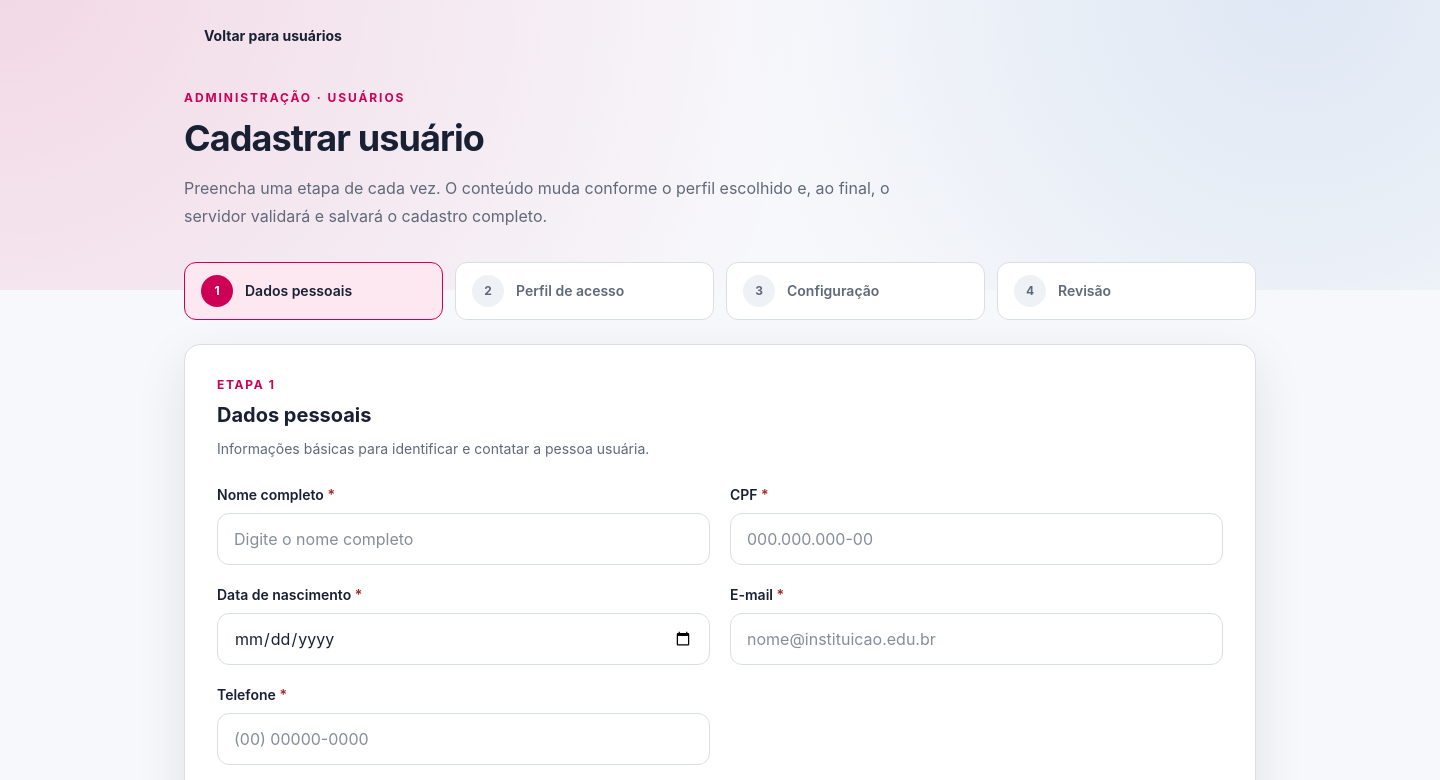
UsersView › exige telefone com DDD antes de avançar no cadastro
In the field named "name": [464, 539] box x1=217 y1=513 x2=710 y2=565, type "Usuário sem telefone"
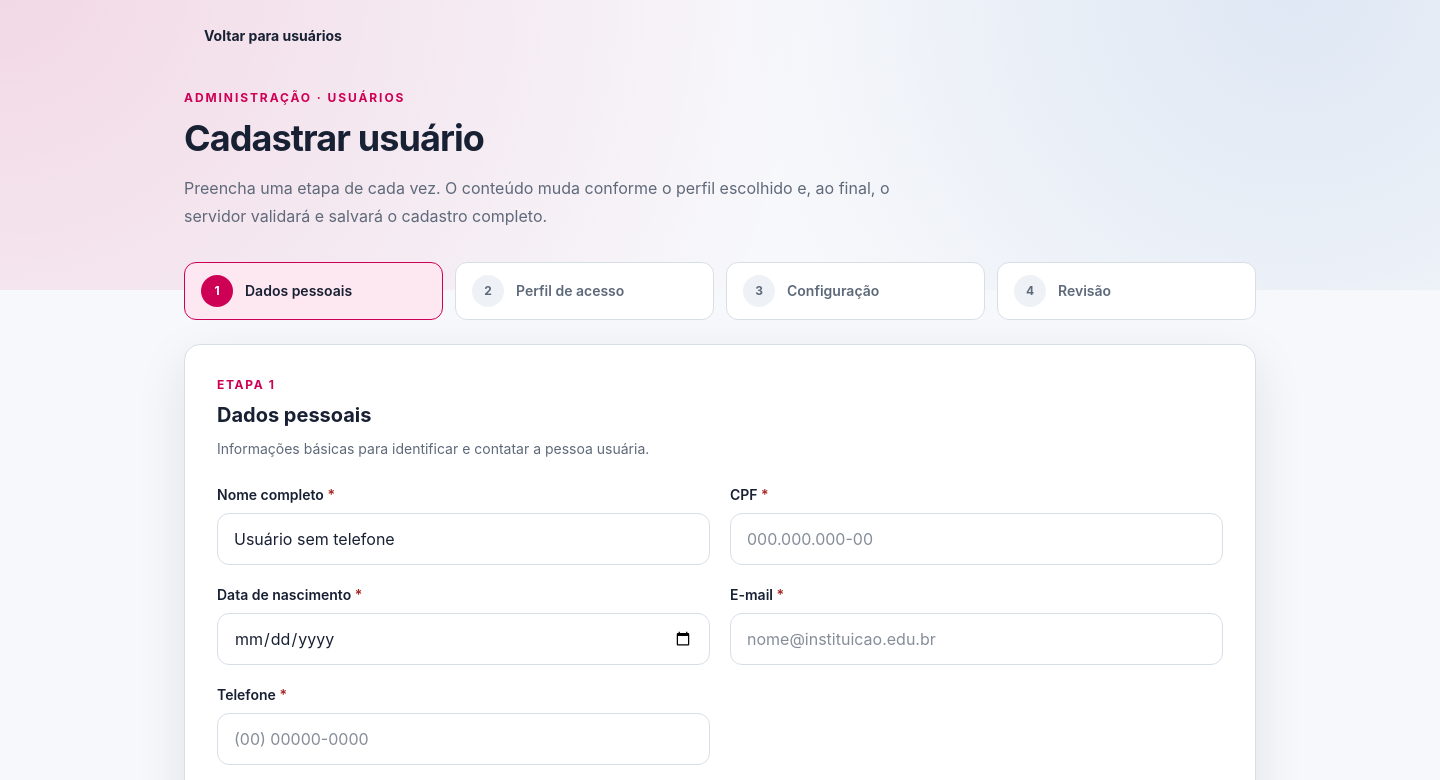
In the field named "cpf": [976, 539] box x1=730 y1=513 x2=1223 y2=565, type "33333333333"
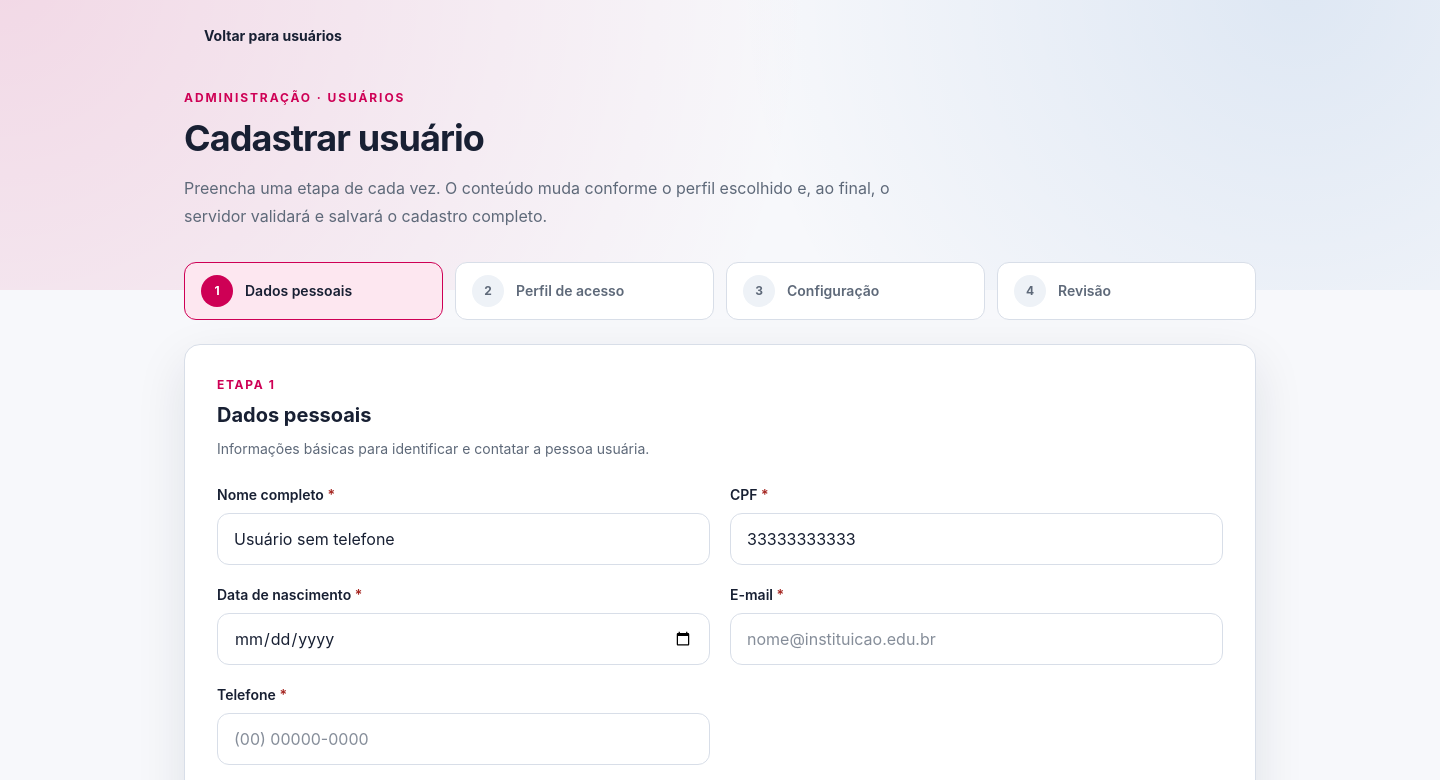
In the date field named "birthDate": [464, 639] box x1=217 y1=613 x2=710 y2=665, type "2000-01-01"
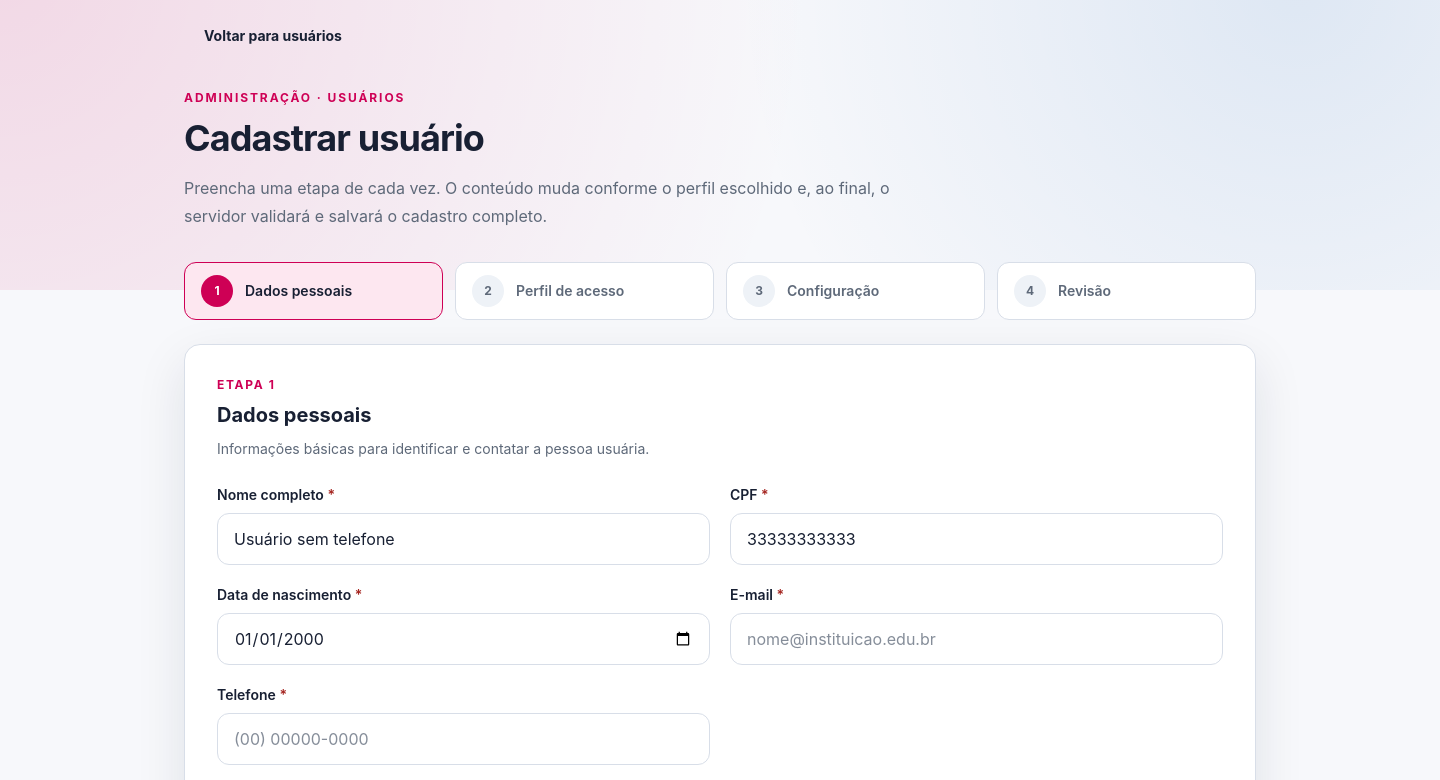
In the field named "email": [976, 639] box x1=730 y1=613 x2=1223 y2=665, type "sem.telefone@instituicao.edu.br"
(page scrolled)
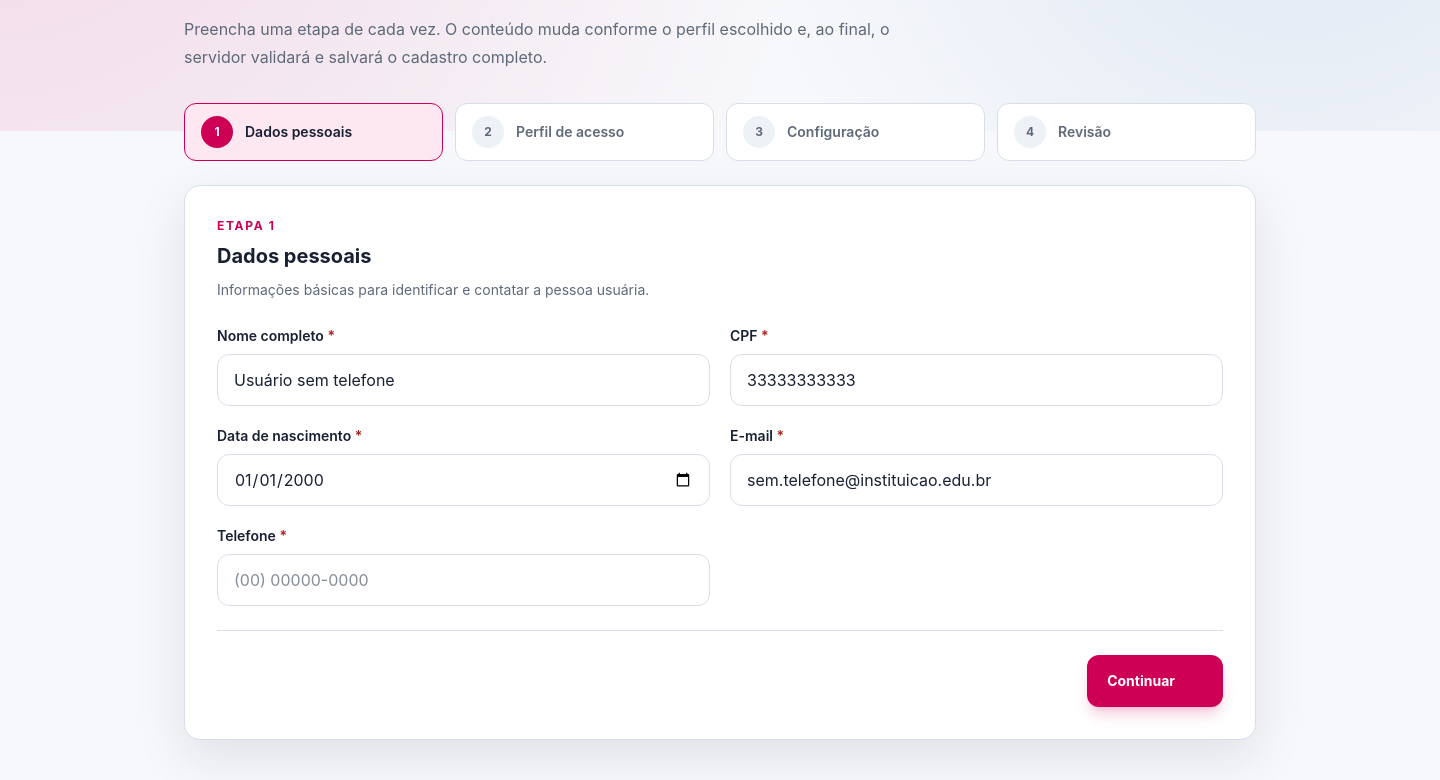
Submit the form, box x1=217 y1=218 x2=1223 y2=707
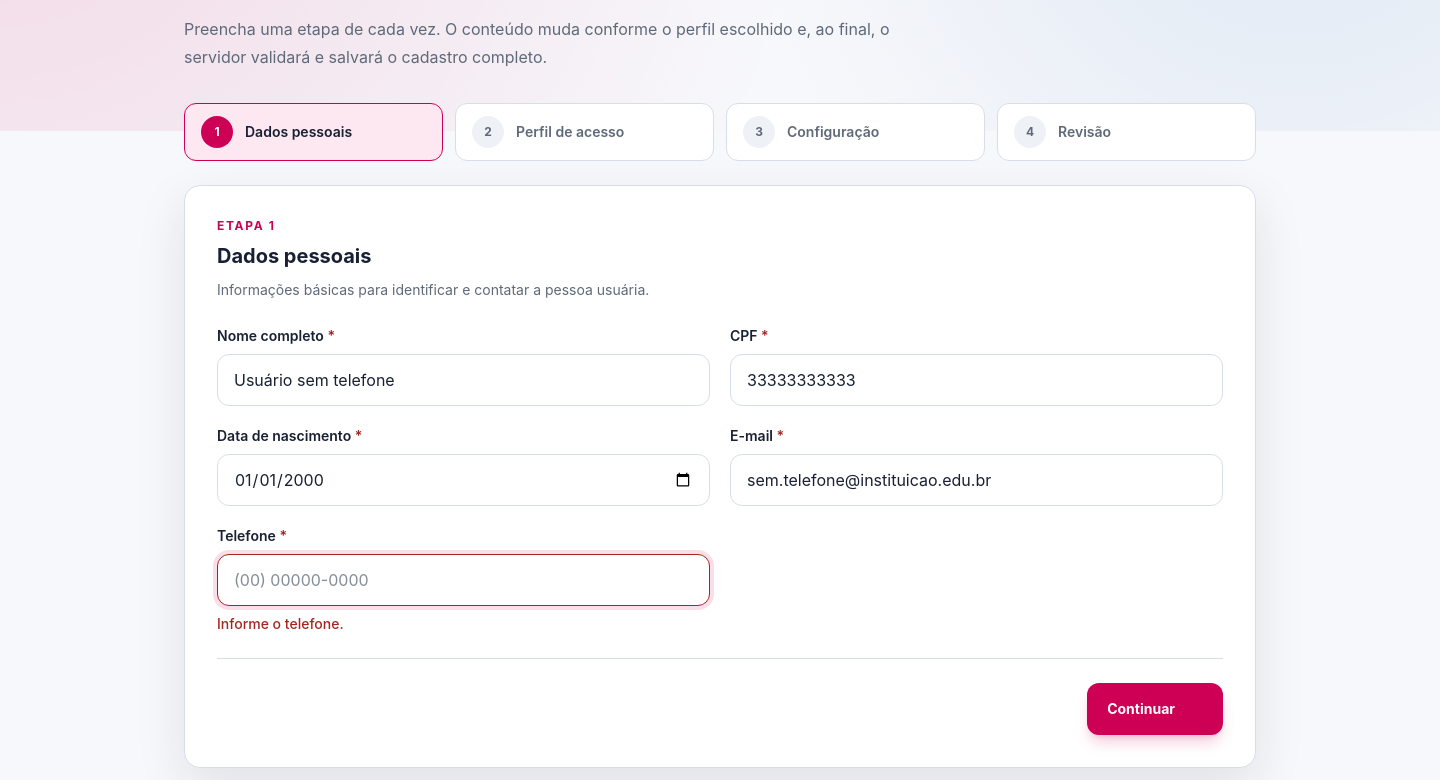
Check: the heading "Dados pessoais" is shown, box x1=217 y1=244 x2=372 y2=268
Check: the text "Informe o telefone." is shown, box x1=217 y1=615 x2=344 y2=632
